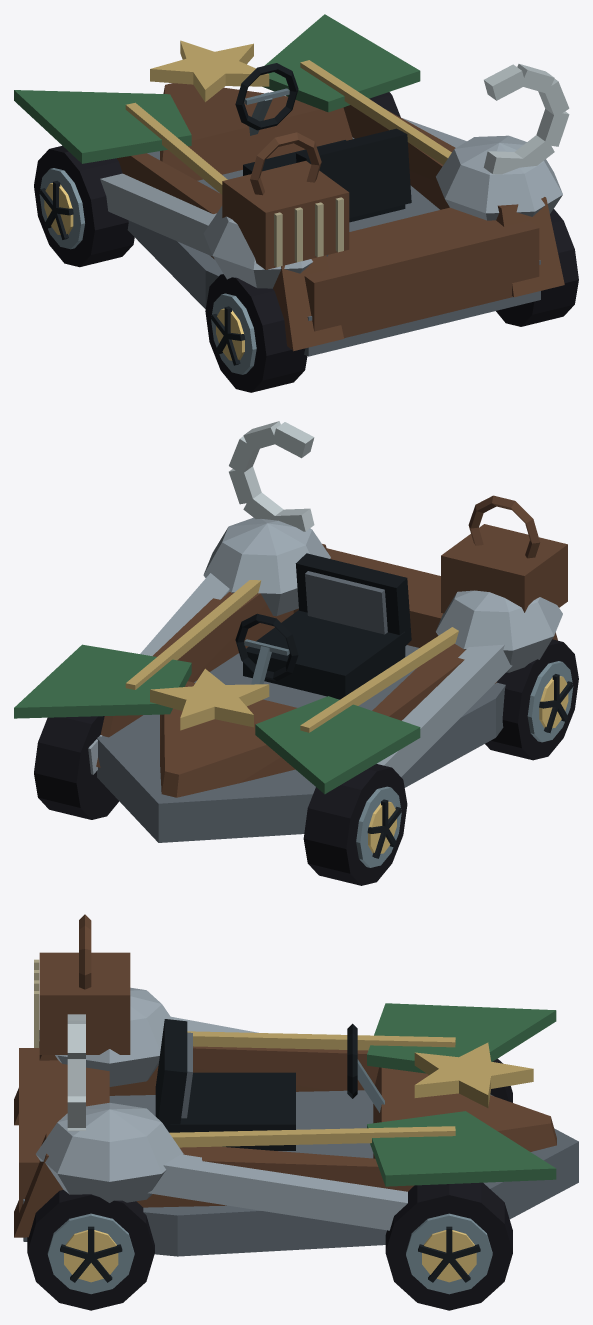
Rendered from kart.glb.
3 renders of one model, top to bottom at view 1: azimuth 30°, elevation 25°; view 2: azimuth 150°, elevation 25°; view 3: azimuth 270°, elevation 25°, orthographic. The views are drawn at different scales.
Visible parts, largest first — view 1: identity-nature-nature-root-cradle-and-leaf-bow, identity-nature-motif-basket, identity-nature-driver-cockpit, wheel-front-left, wheel-rear-left, identity-nature-motif-moon, identity-nature-motif-star, wheel-rear-right; view 2: identity-nature-nature-root-cradle-and-leaf-bow, identity-nature-driver-cockpit, wheel-front-left, identity-nature-motif-basket, wheel-rear-left, wheel-front-right, identity-nature-motif-moon, identity-nature-motif-star; view 3: identity-nature-nature-root-cradle-and-leaf-bow, wheel-front-right, wheel-rear-right, identity-nature-driver-cockpit, identity-nature-motif-basket, identity-nature-motif-star, identity-nature-motif-moon.
Part boxes in pixels (x1,y1,x2,y2): identity-nature-nature-root-cradle-and-leaf-bow: (14,14,564,356); identity-nature-motif-basket: (222,132,349,269); identity-nature-driver-cockpit: (235,63,411,222); wheel-front-left: (34,145,134,267); wheel-rear-left: (205,274,307,392); identity-nature-motif-moon: (483,64,569,174); identity-nature-motif-star: (150,40,269,102); wheel-rear-right: (496,209,578,326); identity-nature-nature-root-cradle-and-leaf-bow: (14,517,562,842); identity-nature-driver-cockpit: (235,553,411,699); wheel-front-left: (303,764,407,885); identity-nature-motif-basket: (441,495,567,613); wheel-rear-left: (485,639,578,760); wheel-front-right: (34,716,119,819); identity-nature-motif-moon: (229,421,314,531); identity-nature-motif-star: (150,668,269,730); identity-nature-nature-root-cradle-and-leaf-bow: (14,987,578,1256); wheel-front-right: (385,1182,512,1310); wheel-rear-right: (27,1190,154,1310); identity-nature-driver-cockpit: (155,1019,384,1150); identity-nature-motif-basket: (34,914,130,1054); identity-nature-motif-star: (414,1042,533,1107); identity-nature-motif-moon: (67,1014,85,1131).
Size of the model in its own units: 2 by 1.45 by 2.75.
